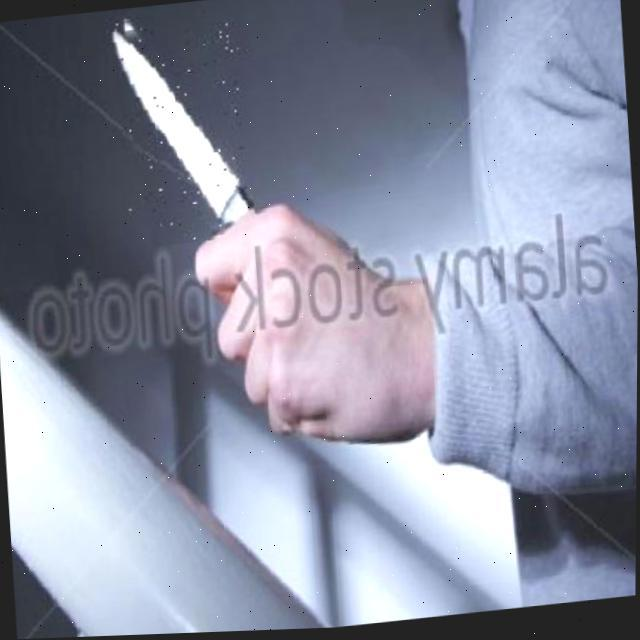knife: (114, 7, 252, 248)
